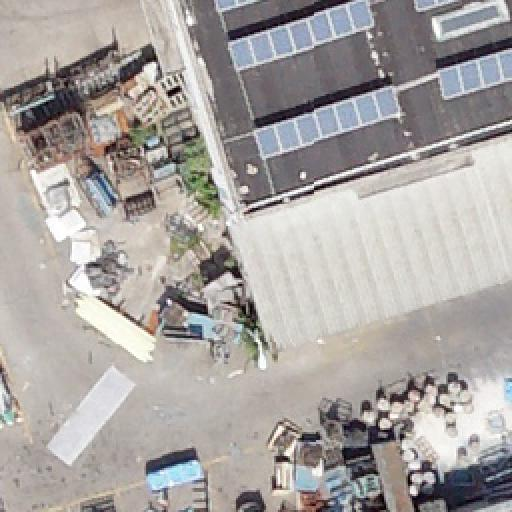solar-panel: (225, 0, 375, 72), (252, 86, 400, 158), (436, 47, 512, 105), (413, 1, 459, 15), (216, 1, 260, 15)
